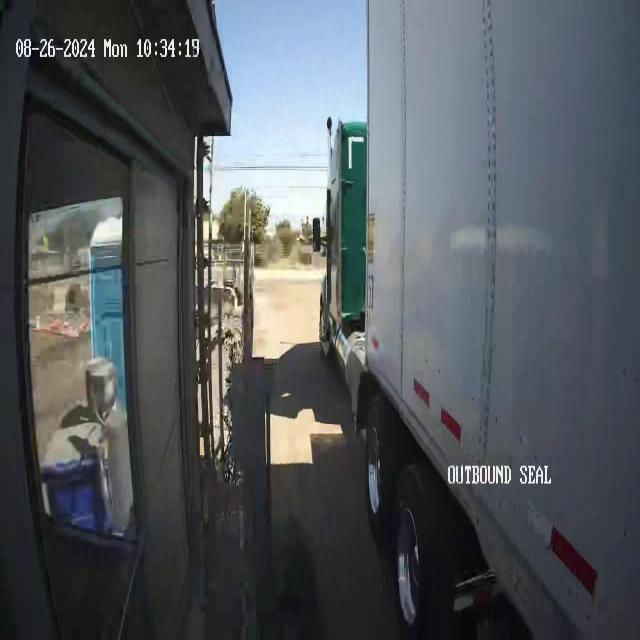TRUCK_CONTAINER: (312, 1, 639, 637)
